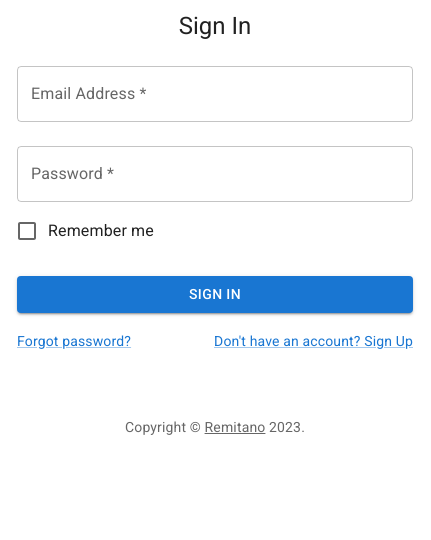
Scenario: signin-page › signin page - signed in failed
The width and height of the screenshot is (431, 540).
Type "test@yopmail.com" into the field labelled "Email Address *".
click(215, 94); type("test@yopmail.com")  # box [17,66,413,122]
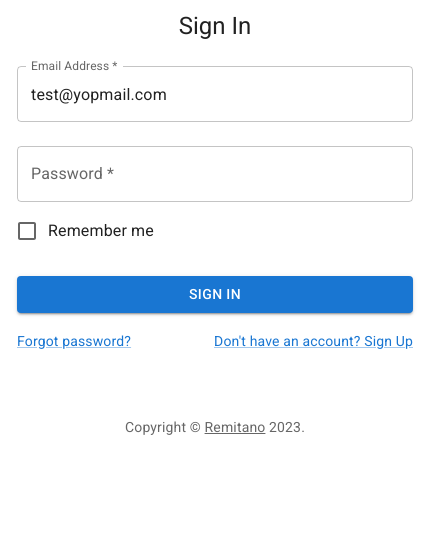
Type "123456" into the password field labelled "Password *".
click(215, 174); type("123456")  # box [17,146,413,202]
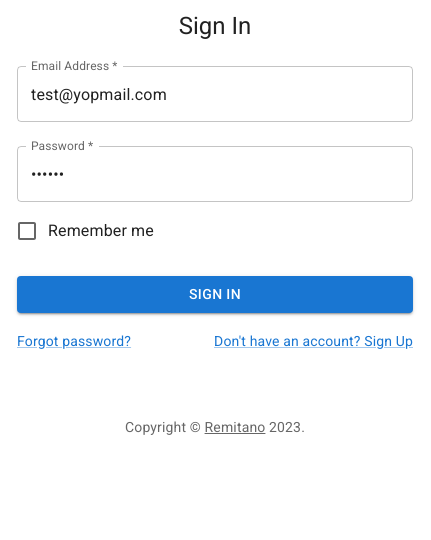
Click the button "Sign In".
click(215, 294)  # box [17,276,413,312]
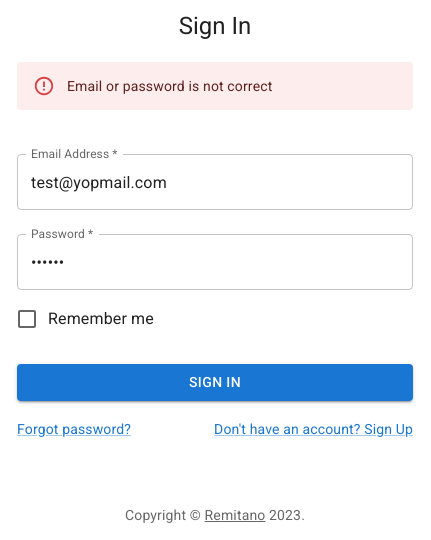
Result: the text "Email or password is not correct" is shown at [67,78,272,94]
